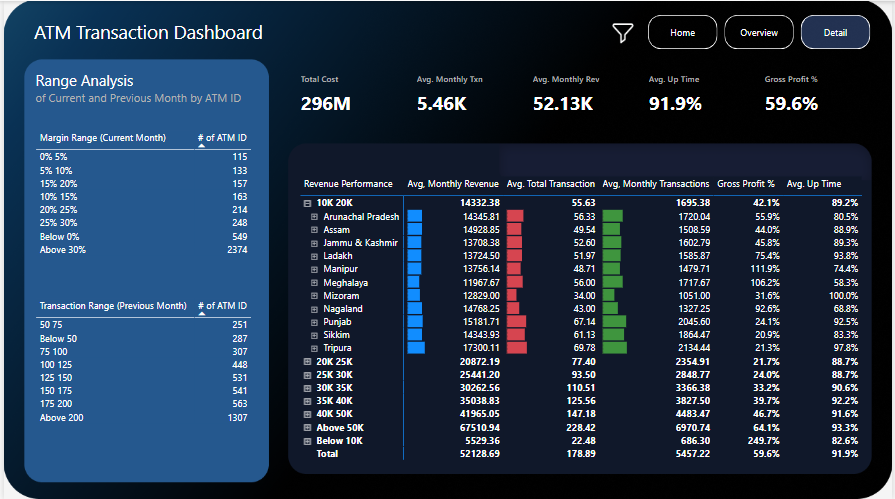

The page's visual inventory and layout, read from the dashboard file:
{"tool":"powerbi","page":{"name":"Detail","canvas":[1280,720],"ordinal":2},"visuals":[{"type":"tableEx","fields":{"Values":["Dataset.MARGIN RANGE Current Month","Dataset.ATM id"]},"box":[39.7,181,338.1,203.2],"z":0},{"type":"tableEx","fields":{"Values":["Dataset.TXN RANGE Previous Month","Dataset.ATM id"]},"box":[39.7,423.8,338.1,204.8],"z":1000},{"type":"textbox","box":[39.7,95.2,360.3,69.8],"z":2000},{"type":"pivotTable","fields":{"Rows":["Dataset.Revenue Performance","Dataset.STATE","Dataset.ATM id"],"Values":["Avg(Dataset.Monthly Rev)","Avg(Dataset.AVG Total TXN)","Avg(Dataset.Monthly Txn)","Dataset.Gross Profit Percentage","Avg(Dataset.Up Time)"]},"box":[422.2,247.6,820.6,427],"z":3000},{"type":"cardVisual","fields":{"Data":["Sum(Dataset. Total Cost  )","Avg(Dataset.Monthly Txn)","Avg(Dataset.Monthly Rev)","Avg(Dataset.Up Time)","Dataset.Gross Profit Percentage"]},"box":[411.1,82.5,838.1,103.2],"z":4000},{"type":"pageNavigator","box":[927,20.6,322.2,49.2],"z":5000},{"type":"textbox","box":[31.7,20.6,352.4,49.2],"z":6000},{"type":"image","box":[868.3,19,46,54],"z":6250}]}

Visuals, with their boxes in screenshot pixels (x1, y1, x2, y2), scaled from the page's 1280x720 canvas onto the 895x499 screenshot:
tableEx - Dataset.MARGIN RANGE Current Month x Dataset.ATM id: region(28, 125, 264, 266)
tableEx - Dataset.TXN RANGE Previous Month x Dataset.ATM id: region(28, 294, 264, 436)
textbox: region(28, 66, 280, 114)
pivotTable - Dataset.Revenue Performance x Dataset.STATE: region(295, 172, 869, 468)
cardVisual - Sum(Dataset. Total Cost  ) x Avg(Dataset.Monthly Txn): region(287, 57, 873, 129)
pageNavigator: region(648, 14, 873, 48)
textbox: region(22, 14, 269, 48)
image: region(607, 13, 639, 51)
